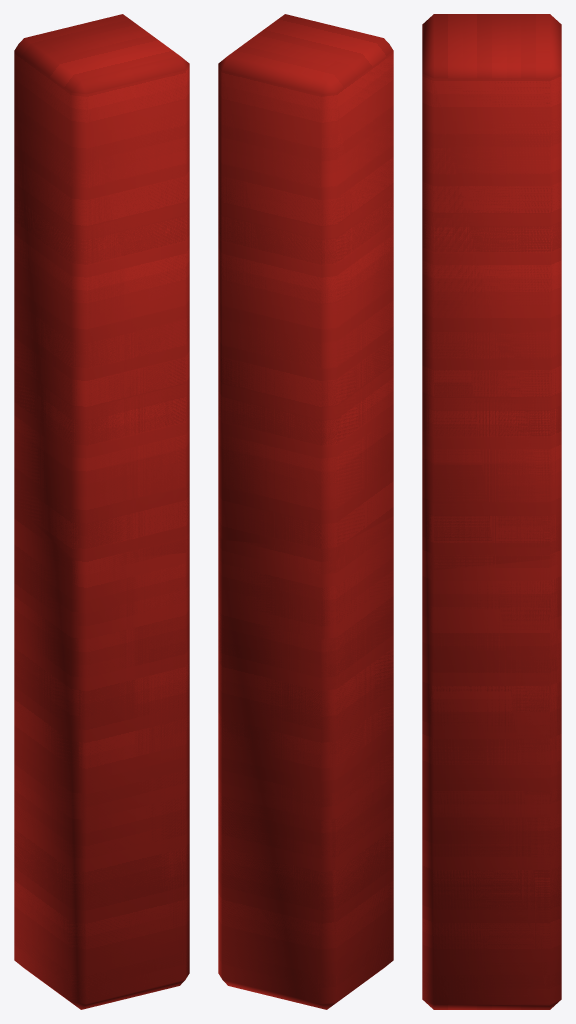
Rendered from baliza_vermelha.glb.
The picture shows the model from 3 angles, left to right: view 1: azimuth 30°, elevation 25°; view 2: azimuth 150°, elevation 25°; view 3: azimuth 270°, elevation 25°; orthographic projection.
Visible parts, largest first — view 1: Inteiro, Peca_01, Peca_00; view 2: Inteiro, Peca_00, Peca_01; view 3: Inteiro, Peca_00, Peca_01.
Part boxes in pixels (left/top/right/bottom): Inteiro: left=14, top=14, right=189, bottom=1009; Peca_01: left=14, top=54, right=189, bottom=560; Peca_00: left=14, top=511, right=189, bottom=1003; Inteiro: left=218, top=14, right=393, bottom=1009; Peca_00: left=218, top=516, right=393, bottom=1002; Peca_01: left=218, top=52, right=393, bottom=548; Inteiro: left=422, top=14, right=561, bottom=1009; Peca_00: left=422, top=555, right=561, bottom=1004; Peca_01: left=422, top=75, right=561, bottom=570.
Bounding box in the file's own units: 0.12 × 0.9 × 0.12.
1 material, 1 textured.
